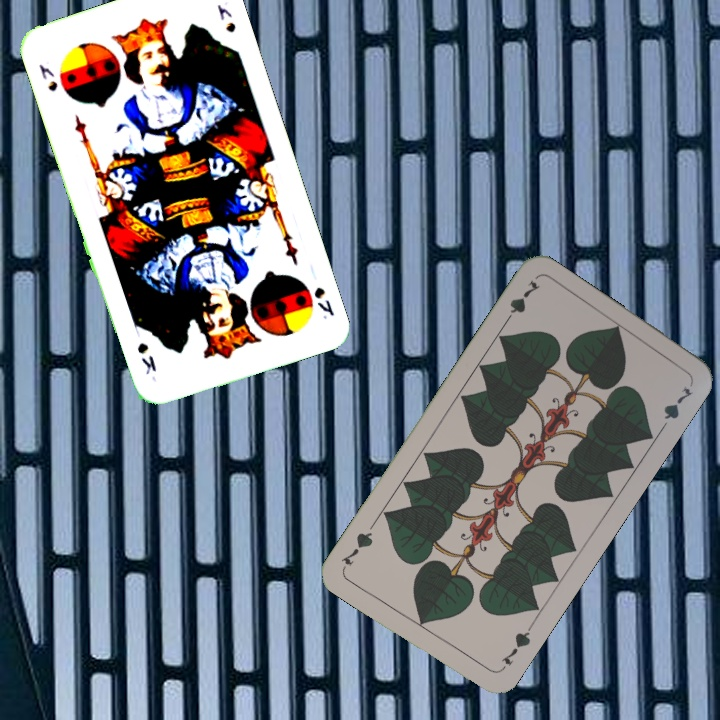G7: (499, 276, 543, 328), (496, 622, 535, 674)
SK: (310, 283, 337, 322), (35, 60, 60, 94)
